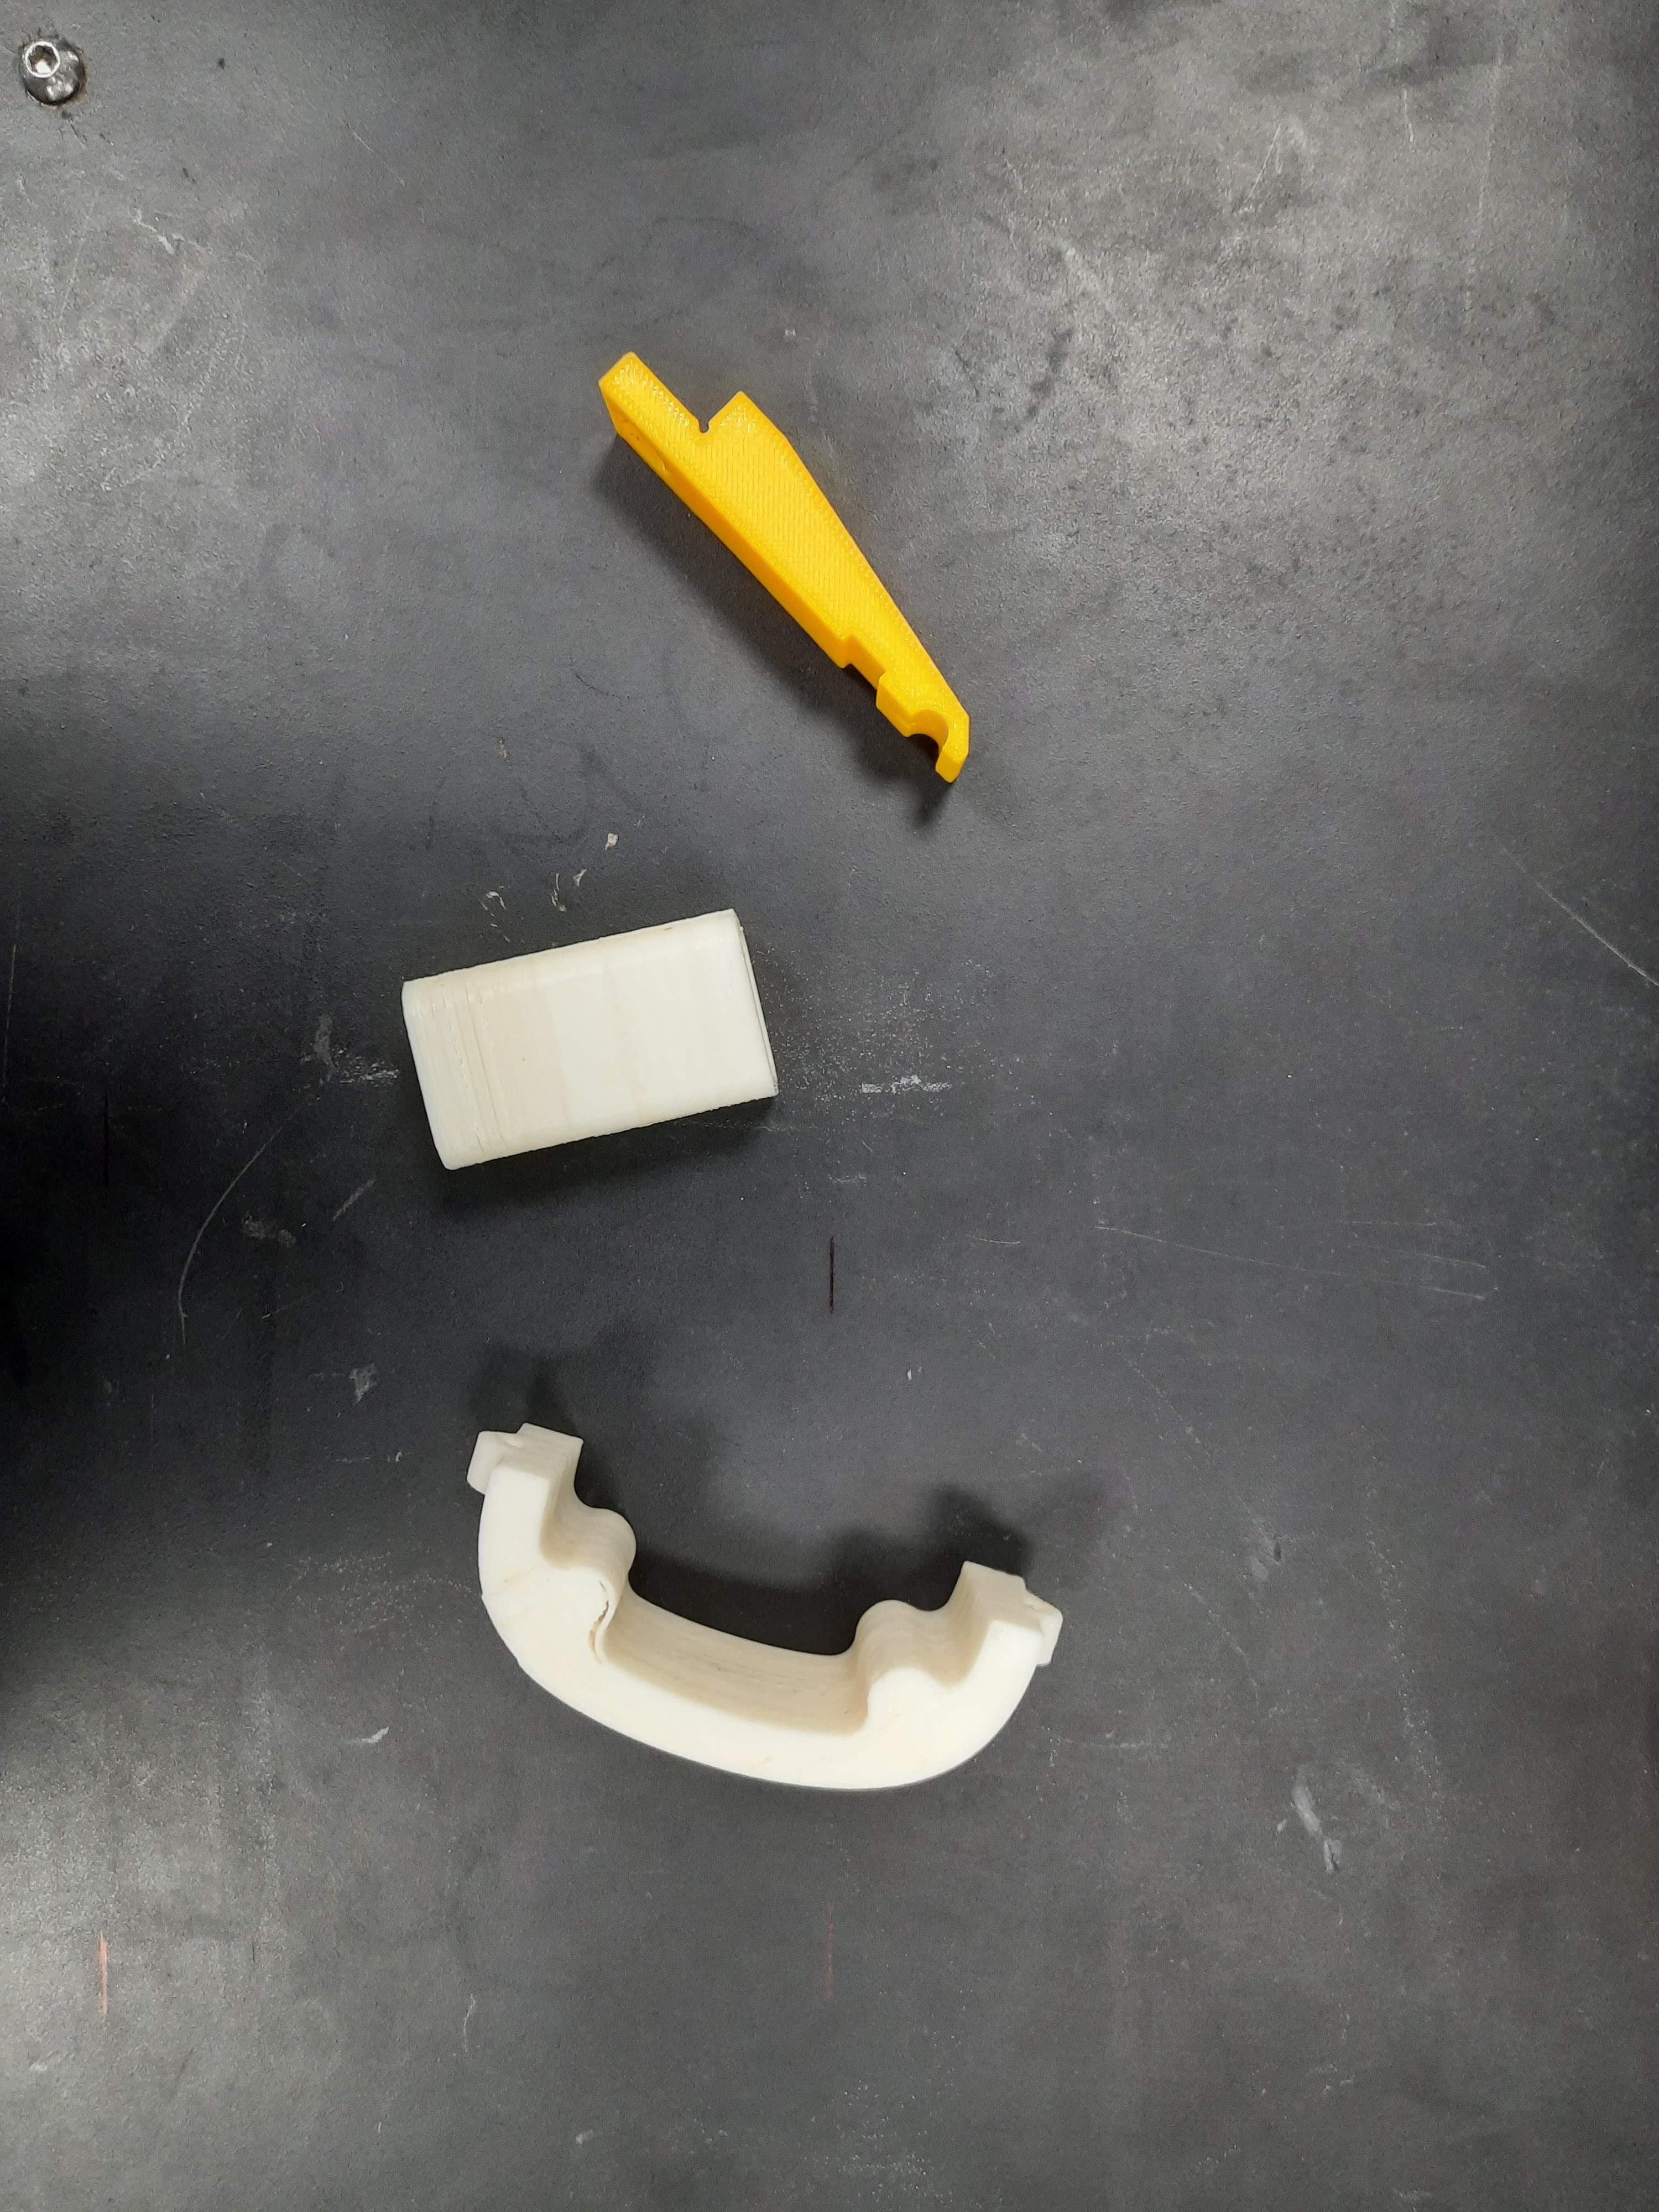ARC: (399, 1404, 1073, 1857)
CUBE: (396, 906, 779, 1167)
YELLOW: (582, 308, 1051, 798)
